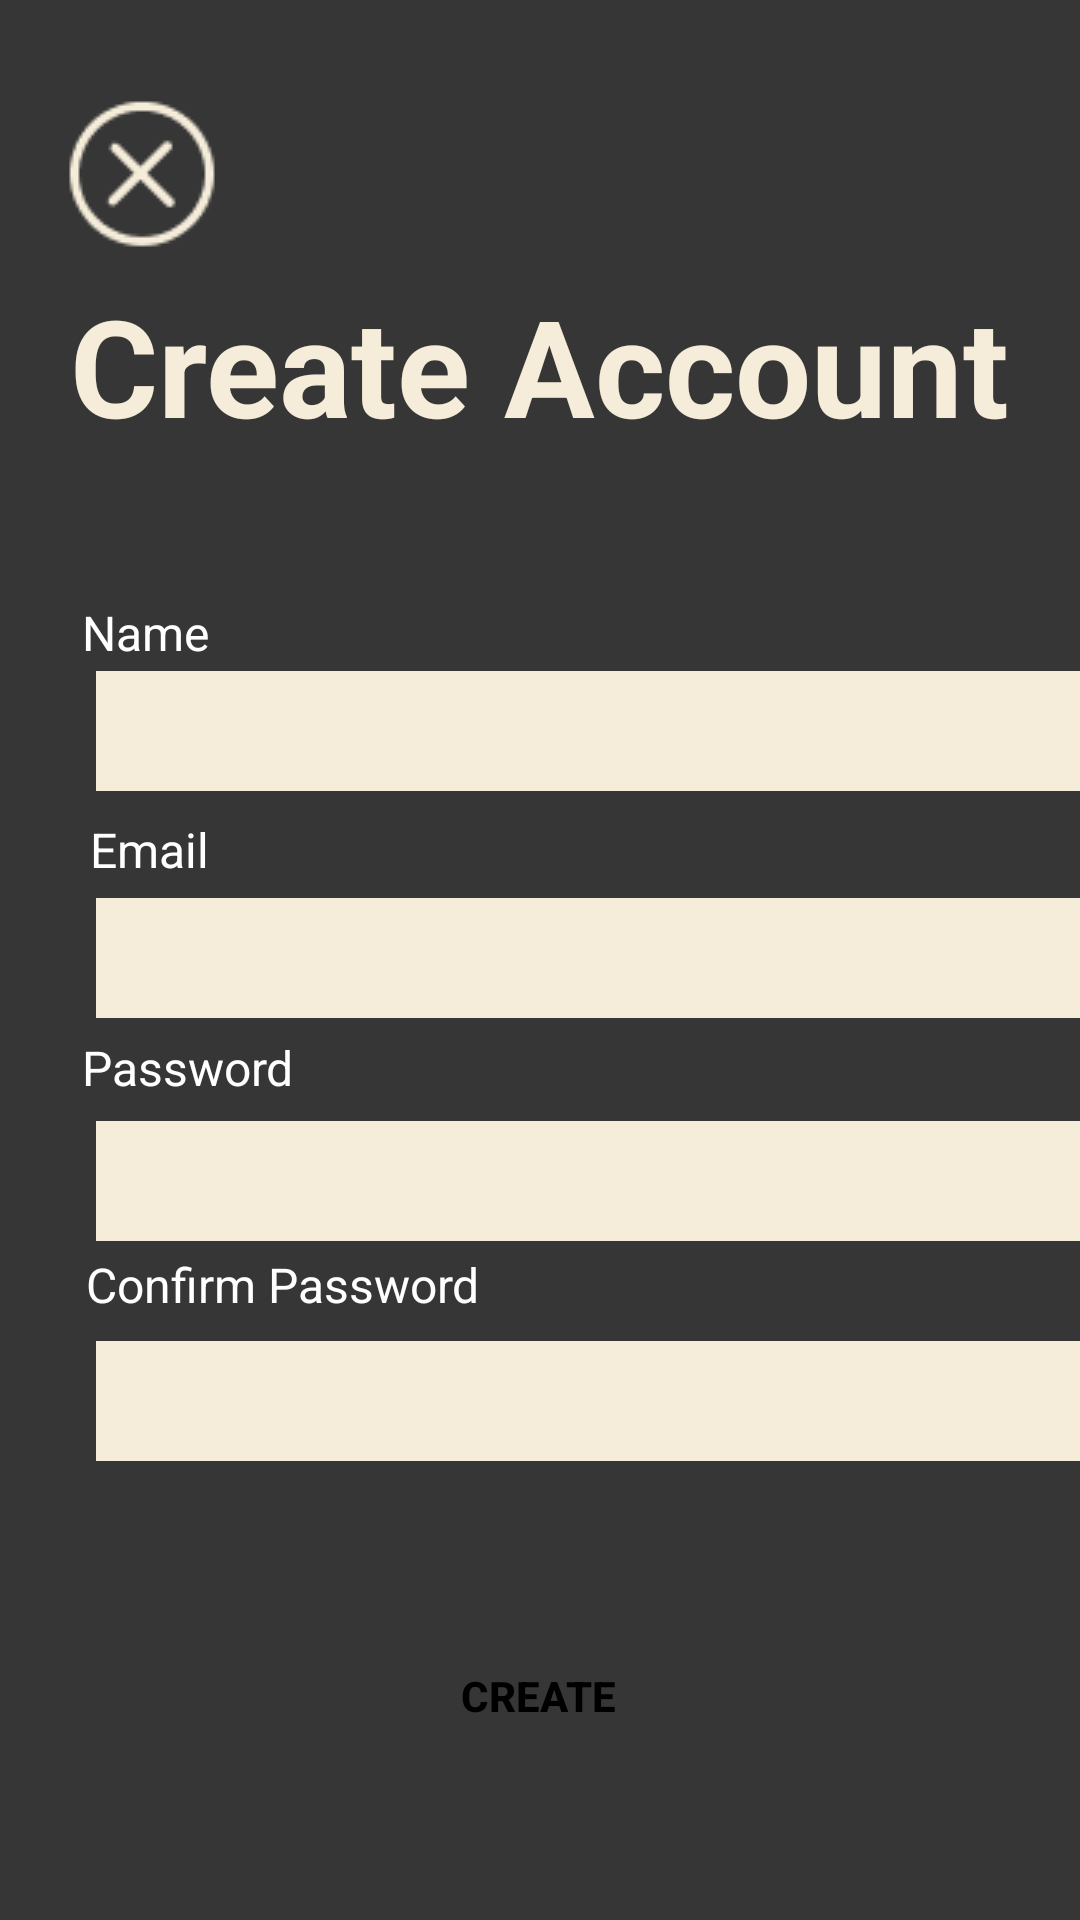

Where to tap for icons on this 1080 x 1920 app screen, as [x,y]:
close: [142,174]
